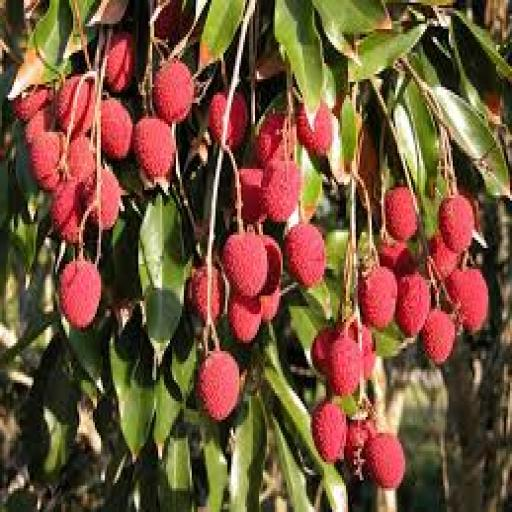lychee: (195, 352, 238, 422), (221, 233, 265, 298), (59, 259, 99, 329), (132, 117, 174, 182), (284, 222, 325, 287), (446, 270, 487, 332), (260, 159, 301, 221), (152, 61, 192, 124), (357, 267, 396, 329), (363, 433, 404, 488), (326, 333, 362, 395), (310, 402, 346, 464), (57, 77, 93, 137), (83, 169, 119, 229), (395, 272, 429, 335), (438, 193, 473, 253), (51, 180, 82, 245), (341, 320, 374, 380), (255, 114, 293, 166), (296, 103, 333, 155), (100, 98, 131, 160), (383, 185, 416, 242), (421, 309, 455, 364), (29, 132, 60, 192), (104, 32, 133, 92), (343, 420, 374, 472), (227, 293, 259, 343), (239, 169, 265, 224), (428, 233, 457, 279), (379, 241, 416, 277), (11, 88, 50, 121), (260, 235, 281, 295), (67, 135, 93, 182), (23, 106, 54, 145), (310, 328, 335, 374), (225, 93, 246, 147), (154, 0, 180, 42), (187, 264, 206, 321), (258, 288, 279, 321)
